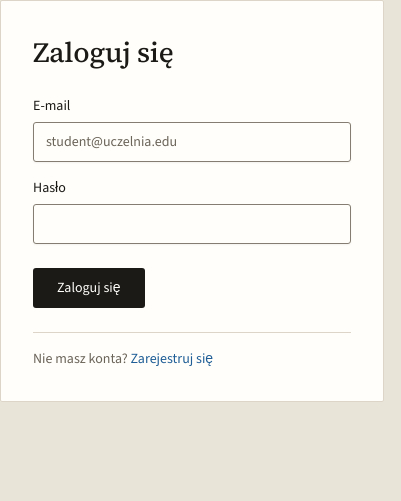
LoginCard › switches between login and sign-up modes
expect the field labelled "Imię" is not shown: met
Click the button "Zarejestruj się" at (172, 358), box [130,348,213,368]
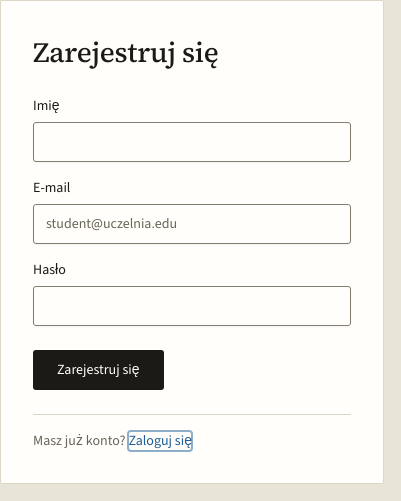
expect the field labelled "Imię" is shown: met, box [33,122,351,162]
expect the heading "Zarejestruj się" is shown: met, box [33,33,219,71]
Click the button "Zaloguj się" at (160, 440), box [128,430,192,450]
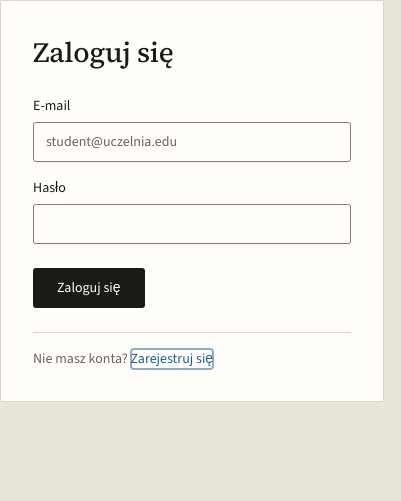
expect the label labelled "Imię" is gone: met
